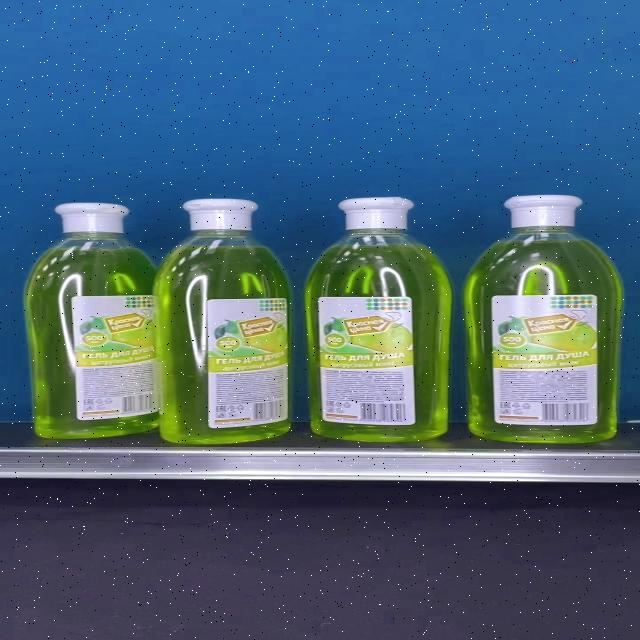Bottle: (462, 195, 622, 443), (304, 197, 453, 442), (155, 200, 289, 444), (25, 203, 160, 439)
Cap: (503, 195, 582, 228), (338, 197, 414, 230), (182, 200, 258, 230), (54, 203, 129, 233)
